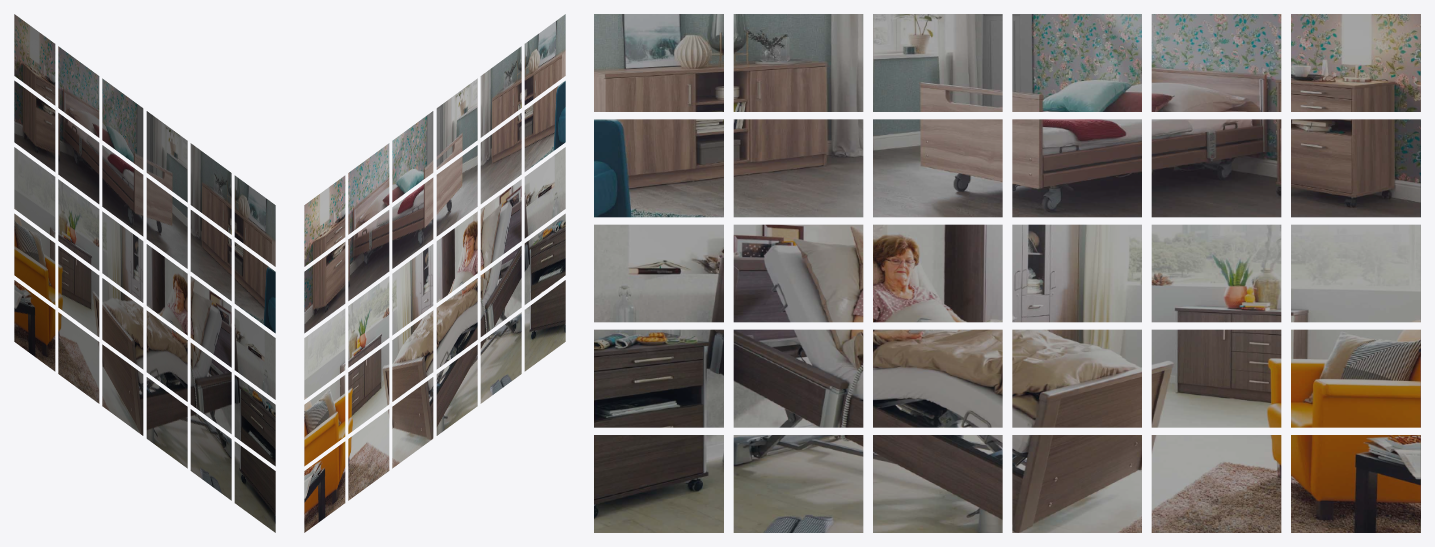
The model's file is TV_bien_1.glb.
The picture shows the model from 3 angles, left to right: view 1: azimuth 30°, elevation 25°; view 2: azimuth 150°, elevation 25°; view 3: azimuth 270°, elevation 25°; orthographic projection. The views are drawn at different scales.
Parts seen in each view (by area): view 1: 2.005, 1.005; view 2: 2.005, 1.005; view 3: 2.005, 1.005.
Boxes of the visible parts, left/top/right/bottom form: 2.005: left=14, top=147, right=275, bottom=532; 1.005: left=14, top=14, right=275, bottom=333; 2.005: left=304, top=147, right=565, bottom=532; 1.005: left=304, top=14, right=565, bottom=333; 2.005: left=594, top=224, right=1420, bottom=532; 1.005: left=594, top=14, right=1420, bottom=217.
Size of the model in its own units: 1.27e-07 by 8.82 by 12.74.
2 materials, 2 textured.
